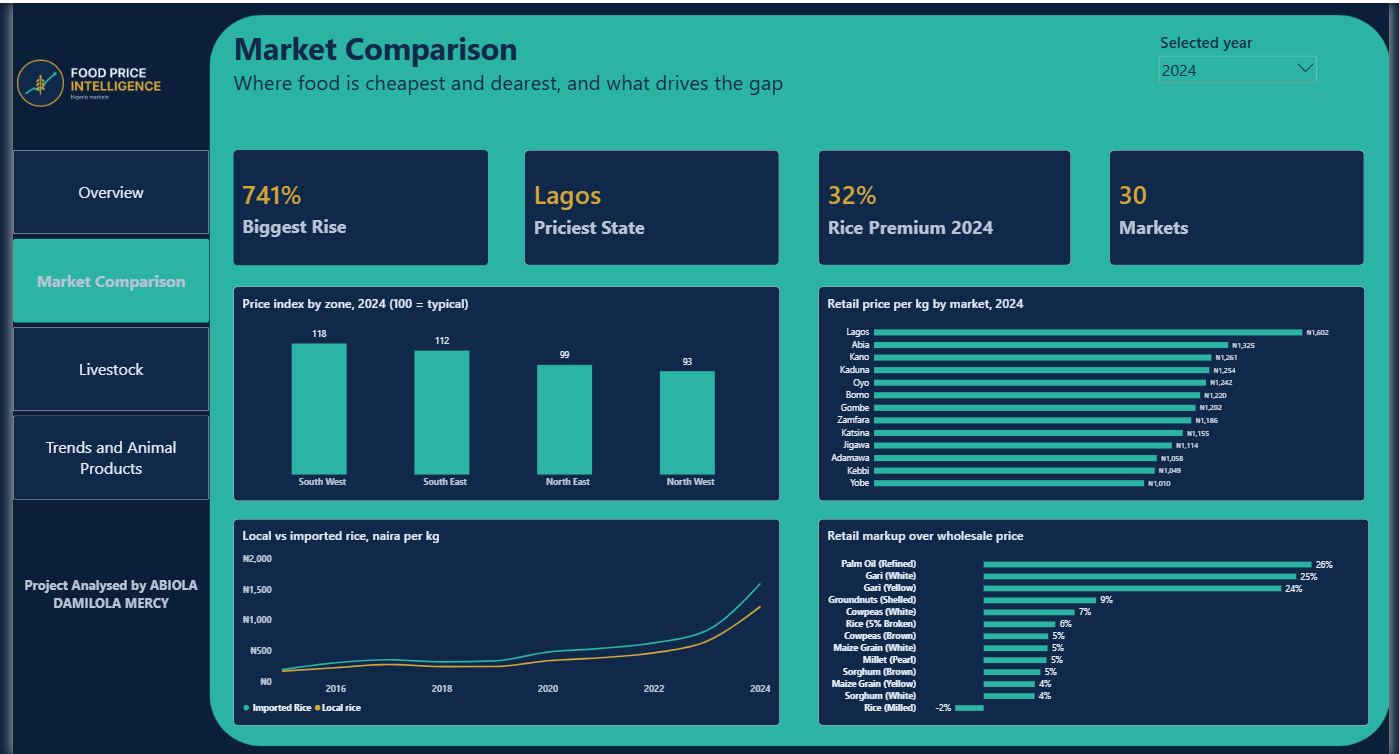

Layout of this report page (visuals, bound fields, positions):
{"tool":"powerbi","page":{"name":"Market Comparison","canvas":[2520,1380],"ordinal":1},"visuals":[{"type":"shape","box":[359.7,21.3,2161.5,1338.4],"z":0},{"type":"textbox","box":[403.6,44.4,2077.5,155.5],"z":1000},{"type":"cardVisual","title":"Biggest rise","fields":{"Data":["FEWS_Prices.Biggest Rise"]},"box":[403.6,270.3,466.6,211.1],"z":2000},{"type":"cardVisual","fields":{"Data":["FEWS_Prices.Priciest State"]},"box":[936.9,270.3,466.6,211.1],"z":3000},{"type":"cardVisual","fields":{"Data":["FEWS_Prices.Rice Premium 2024"]},"box":[1473.9,270.3,462.9,211.1],"z":4000},{"type":"cardVisual","fields":{"Data":["FEWS_Prices.Markets"]},"box":[2007.1,270.3,466.6,211.1],"z":5000},{"type":"pageNavigator","box":[0,270.3,359.2,640.6],"z":6000},{"type":"textbox","box":[0,1048,359.2,311.1],"z":7000},{"type":"image","box":[0,21,359,249],"z":8000},{"type":"lineClusteredColumnComboChart","title":"Price index by zone, 2024 (100 = typical)","fields":{"Category":["public bi_zone_index.zone"],"Y":["FEWS_Prices.Zone Index"]},"box":[403.6,518.4,999.8,392.5],"z":9000},{"type":"lineChart","title":"Local vs imported rice, naira per kg","fields":{"Category":["public bi_rice_premium.year"],"Y":["Sum(public bi_rice_premium.imported_ngn_per_kg)","Sum(public bi_rice_premium.local_ngn_per_kg)"]},"box":[403.6,944.3,999.8,377.7],"z":10000},{"type":"barChart","title":"Retail markup over wholesale price","fields":{"Category":["public bi_retail_wholesale.product"],"Y":["FEWS_Prices.Retail Markup"]},"box":[1473.9,944.3,1007.3,377.7],"z":11000},{"type":"clusteredBarChart","title":"Retail price per kg by market, 2024","fields":{"Y":["FEWS_Prices.Avg Price"],"Category":["FEWS_Prices.state"]},"box":[1473.9,518.4,999.8,392.5],"z":12000},{"type":"slicer","fields":{"Values":["public bi_retail_wholesale.year"]},"box":[2091.4,51.8,298.8,149.4],"z":12001}]}

Visuals, with their boxes in screenshot pixels (x1, y1, x2, y2), scaled from the page's 2520x1380 canvas onto the 1399x754 screenshot:
shape: x1=200, y1=12, x2=1398, y2=743
textbox: x1=224, y1=24, x2=1377, y2=109
"Biggest rise" cardVisual: x1=224, y1=148, x2=483, y2=263
cardVisual - FEWS_Prices.Priciest State: x1=520, y1=148, x2=779, y2=263
cardVisual - FEWS_Prices.Rice Premium 2024: x1=818, y1=148, x2=1075, y2=263
cardVisual - FEWS_Prices.Markets: x1=1114, y1=148, x2=1373, y2=263
pageNavigator: x1=0, y1=148, x2=199, y2=498
textbox: x1=0, y1=573, x2=199, y2=743
image: x1=0, y1=11, x2=199, y2=148
"Price index by zone, 2024 (100 = typical)" lineClusteredColumnComboChart: x1=224, y1=283, x2=779, y2=498
"Local vs imported rice, naira per kg" lineChart: x1=224, y1=516, x2=779, y2=722
"Retail markup over wholesale price" barChart: x1=818, y1=516, x2=1377, y2=722
"Retail price per kg by market, 2024" clusteredBarChart: x1=818, y1=283, x2=1373, y2=498
slicer - public bi_retail_wholesale.year: x1=1161, y1=28, x2=1327, y2=110
